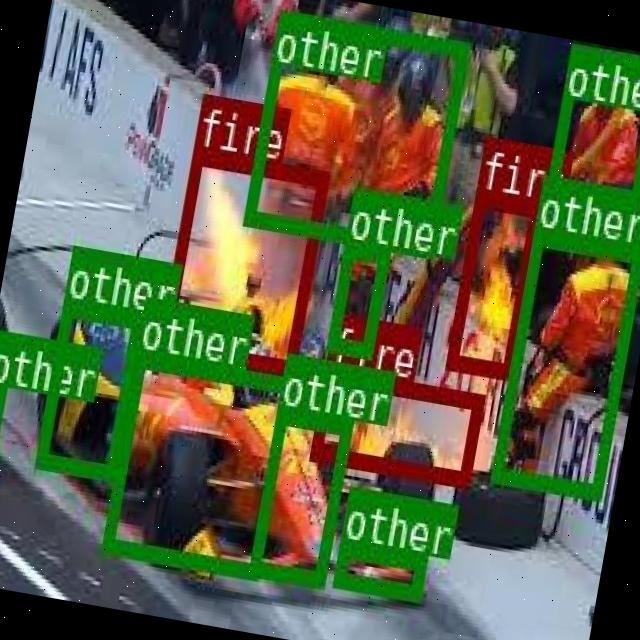fire: (156, 144, 328, 374), (307, 363, 482, 484), (444, 188, 540, 374)
